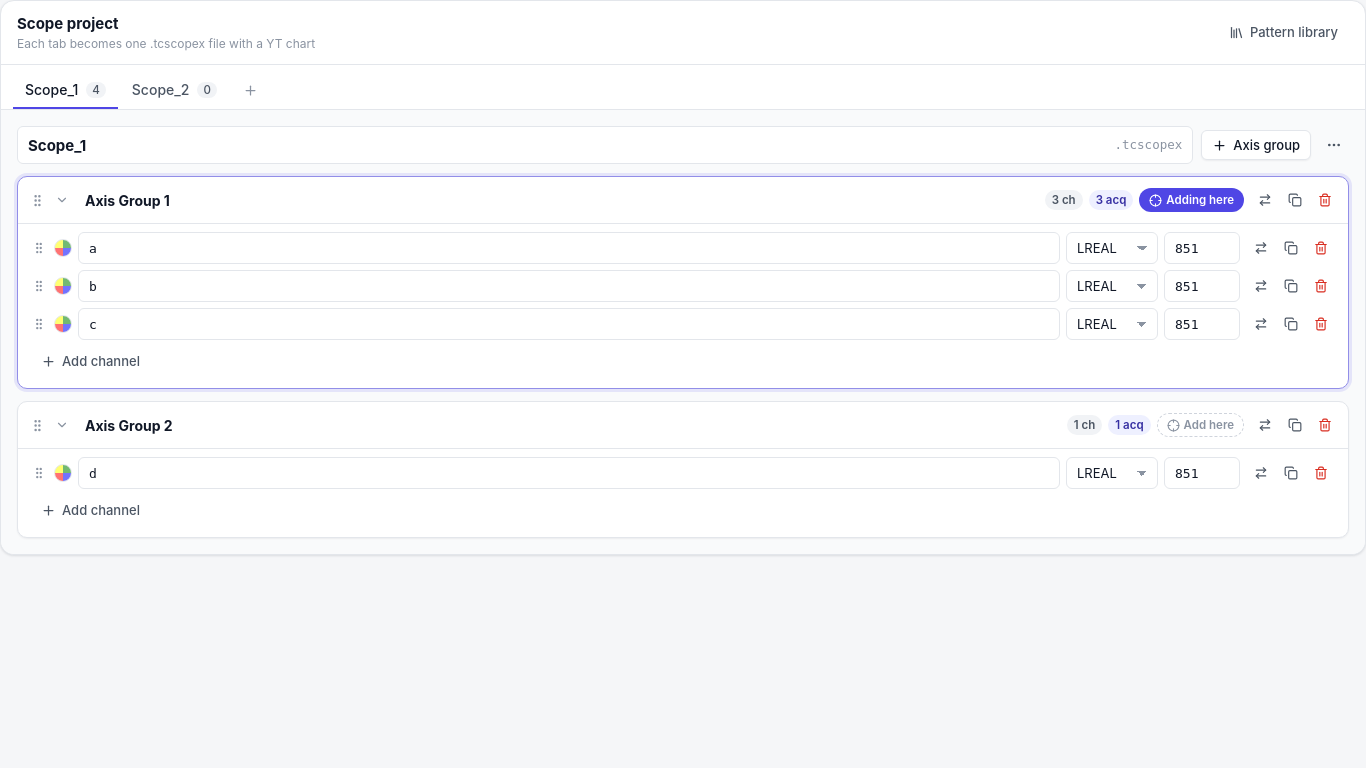
Test: "Move to…" menus › moves a channel up, down and to another axis group
Later steps or results of the test are not shown.
Click the 1st button named "Move channel to…" at (1261, 248), box [1246,233,1276,263]
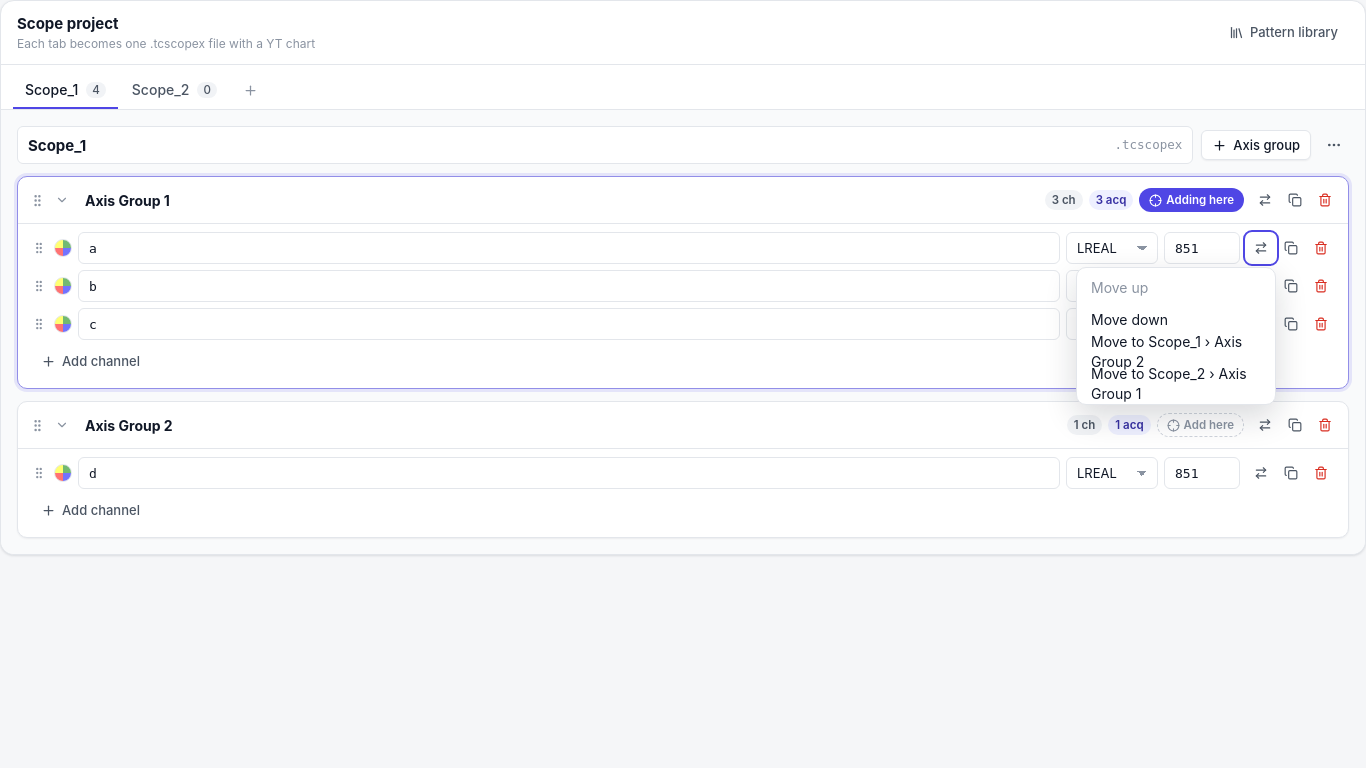
expect the menu item "Move up" is disabled: met, box [1081,272,1271,304]
Click the menu item "Move down" at (1176, 320), box [1081,304,1271,336]
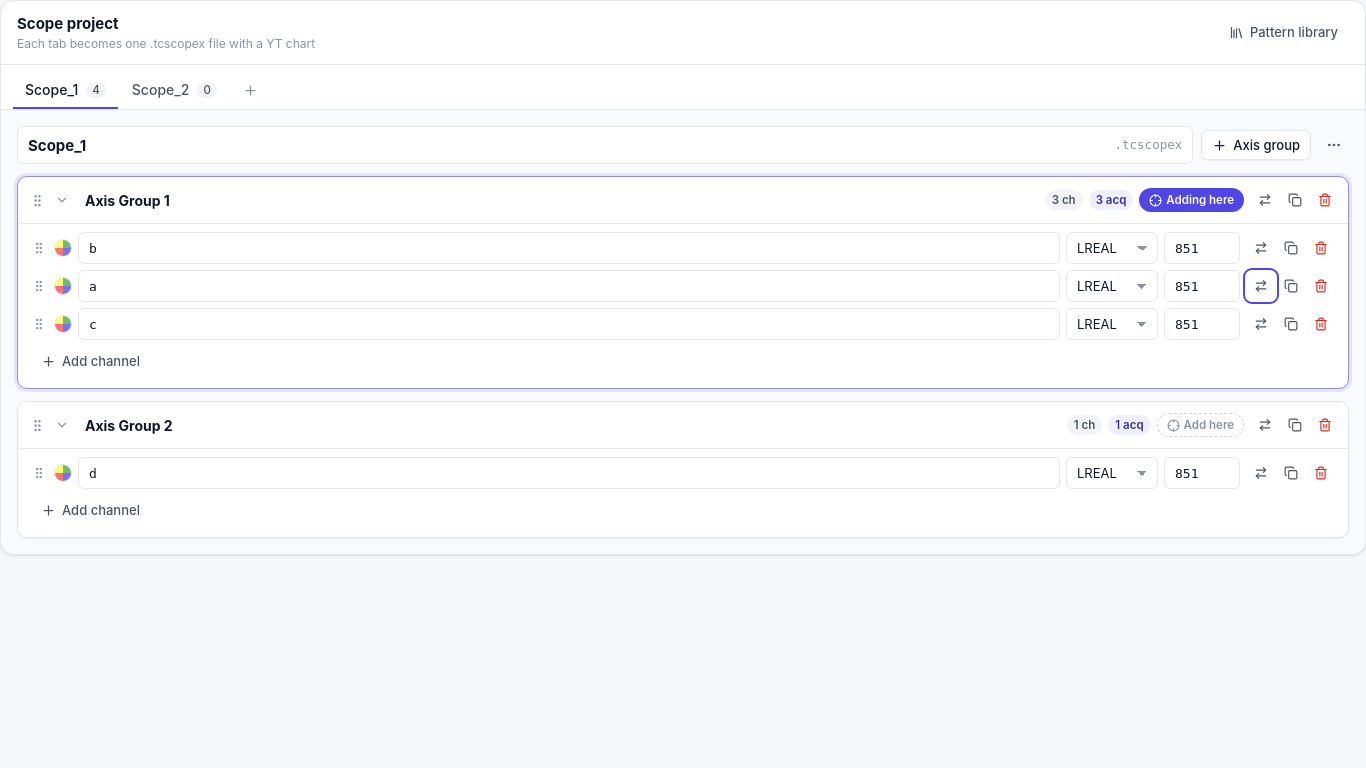
Click the 2nd button named "Move channel to…" at (1261, 286), box [1246,271,1276,301]
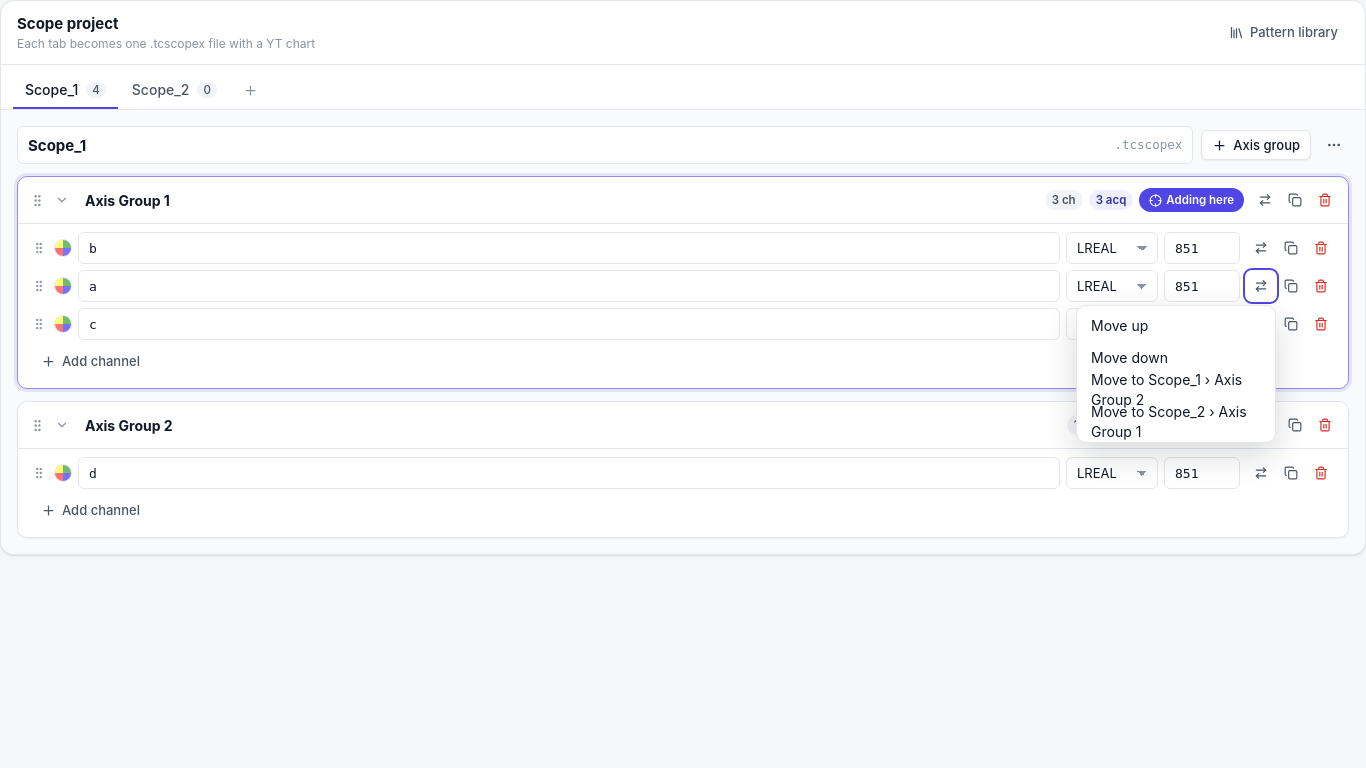
Click the menu item "Move up" at (1176, 326), box [1081,310,1271,342]
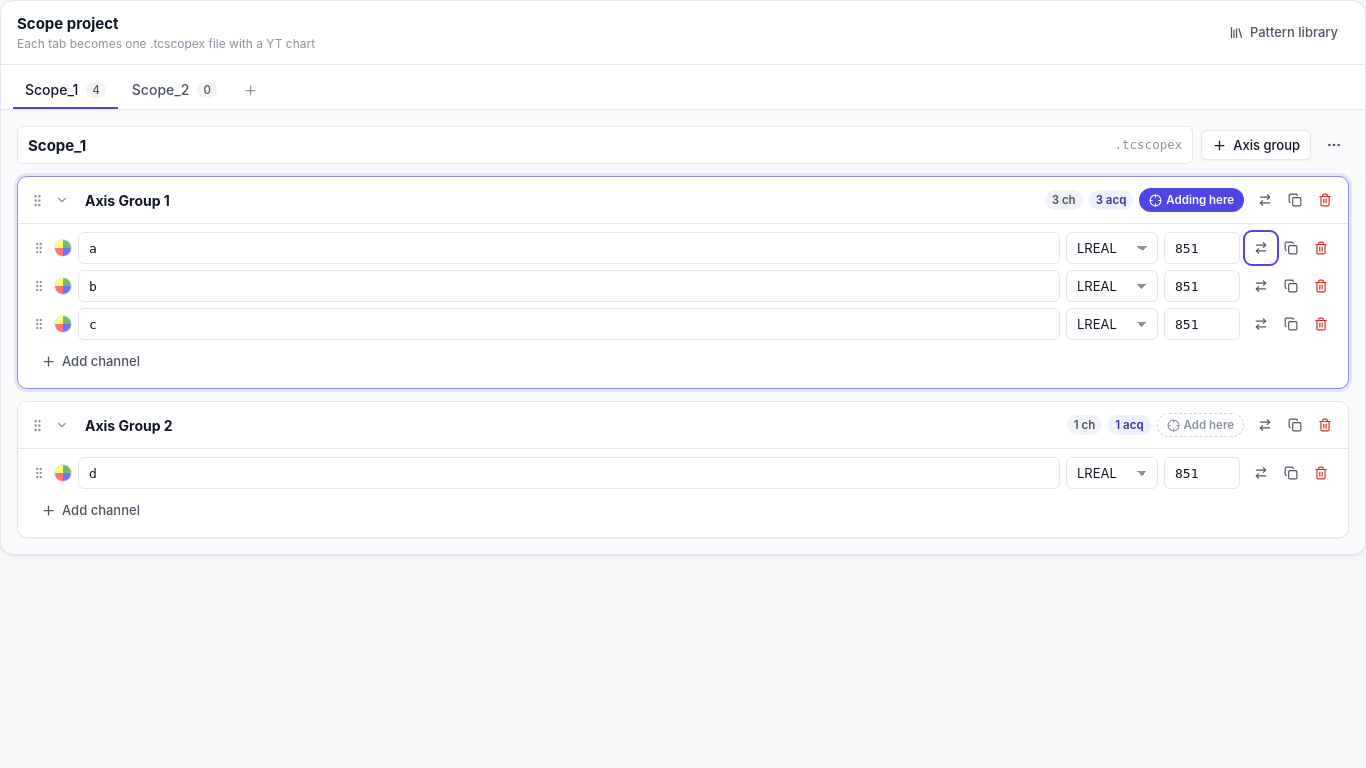
Click the 3rd button named "Move channel to…" at (1261, 324), box [1246,309,1276,339]
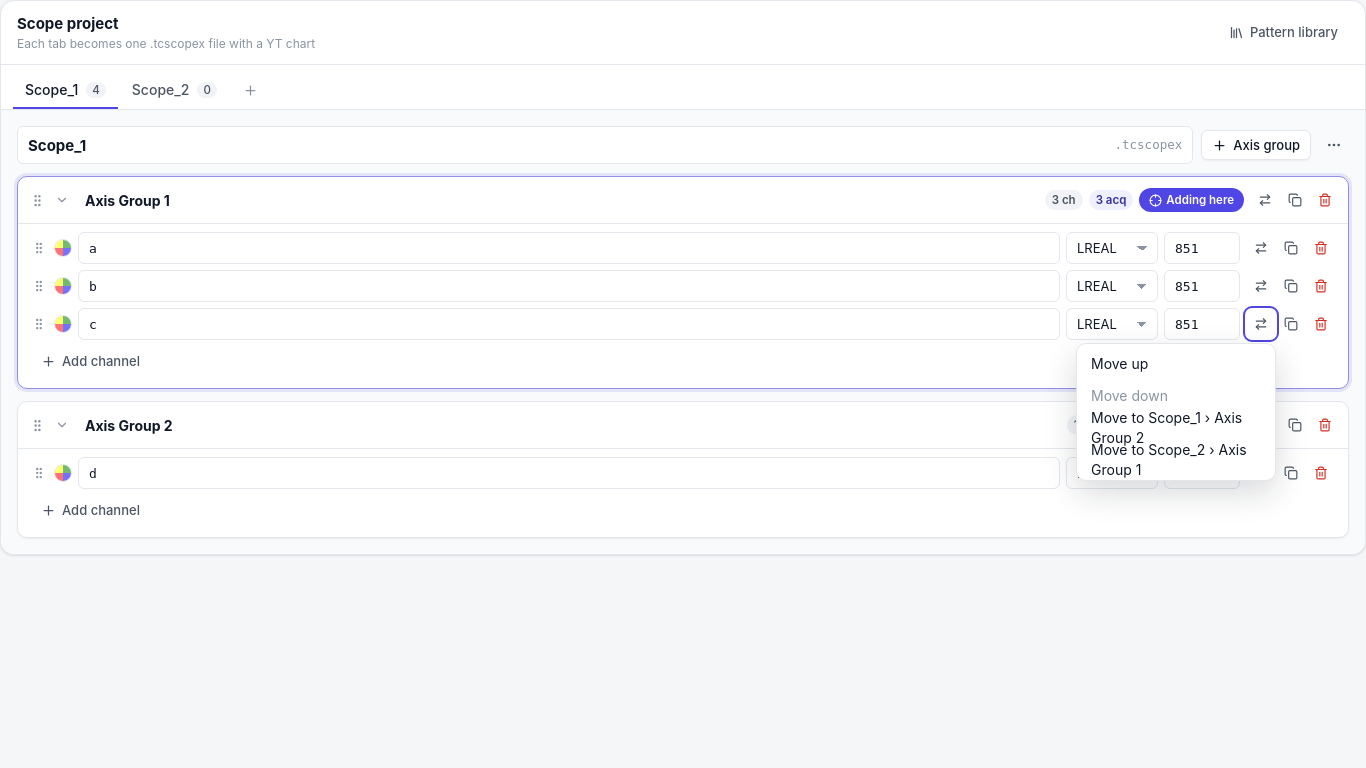
expect the menu item "Move down" is disabled: met, box [1081,380,1271,412]
